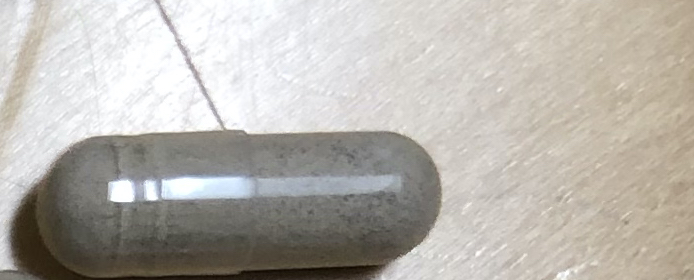capsule: (33, 130, 441, 280)
